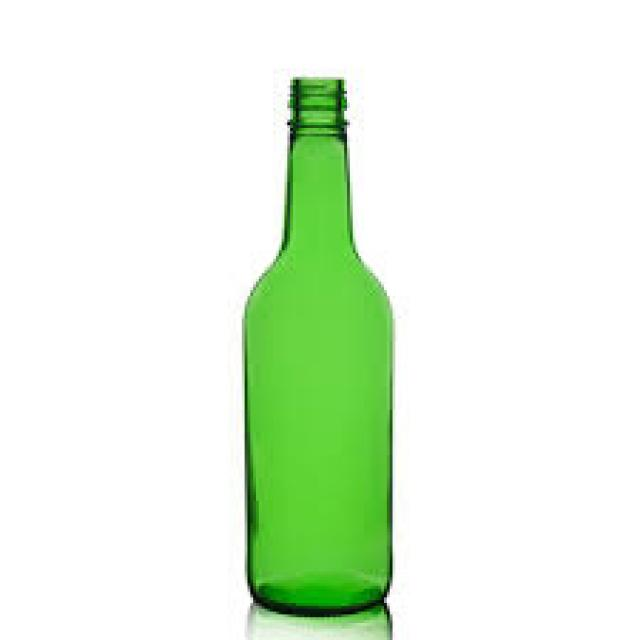glass: (239, 74, 390, 614)
